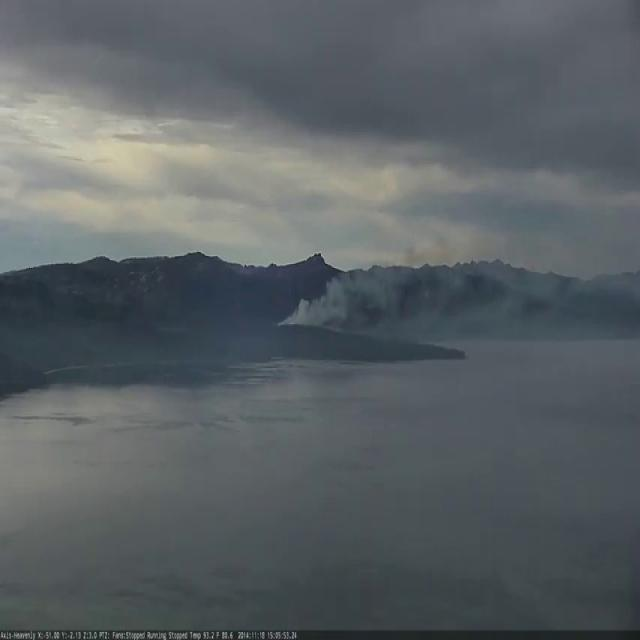smoke: (276, 235, 640, 341)
